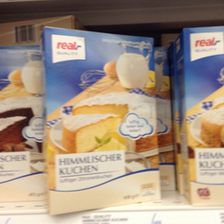cake: (39, 24, 166, 216), (174, 28, 224, 204)
